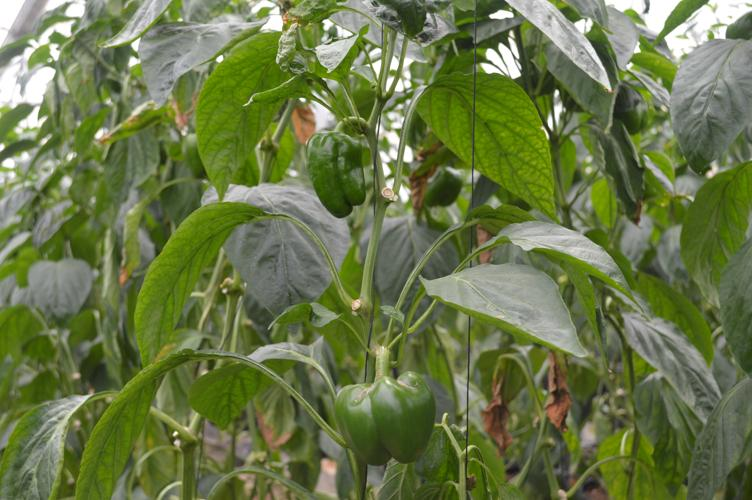BellPepper: (331, 368, 441, 464), (298, 126, 368, 222)
